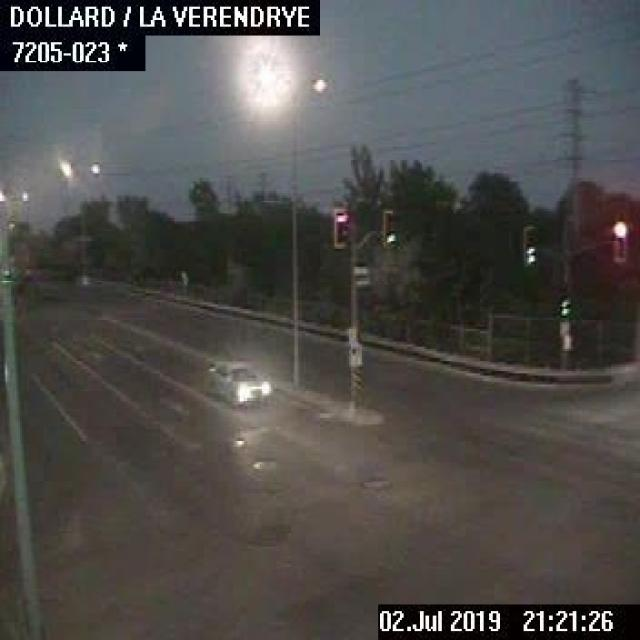vehicle: (203, 360, 273, 407)
